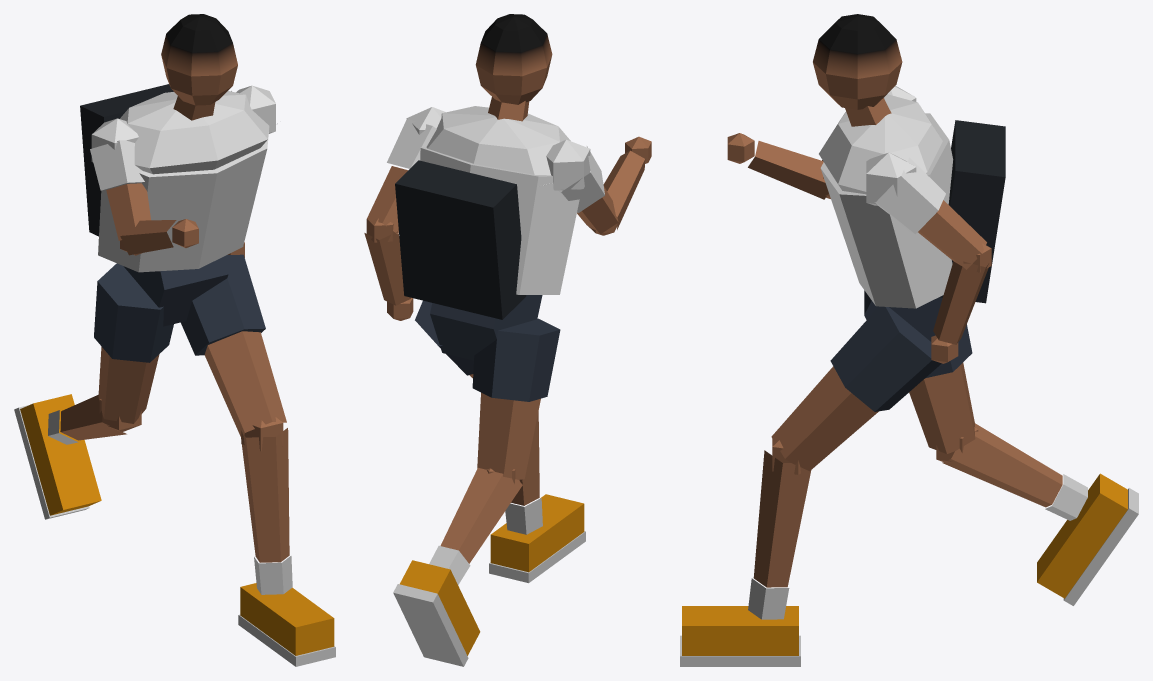
The model's file is corredor-c.glb.
3 renders of one model, left to right at view 1: azimuth 30°, elevation 25°; view 2: azimuth 150°, elevation 25°; view 3: azimuth 270°, elevation 25°, orthographic. The views are drawn at different scales.
Parts seen in each view (by area): view 1: Corredor_C_HombreBajoRobusto_EXP; view 2: Corredor_C_HombreBajoRobusto_EXP; view 3: Corredor_C_HombreBajoRobusto_EXP.
Boxes of the visible parts, x1,y1,x2,y2 form: Corredor_C_HombreBajoRobusto_EXP: (14,14,335,666); Corredor_C_HombreBajoRobusto_EXP: (364,14,651,666); Corredor_C_HombreBajoRobusto_EXP: (680,14,1138,666).
Bounding box in the file's own units: 0.5477 × 1.65 × 1.1.
